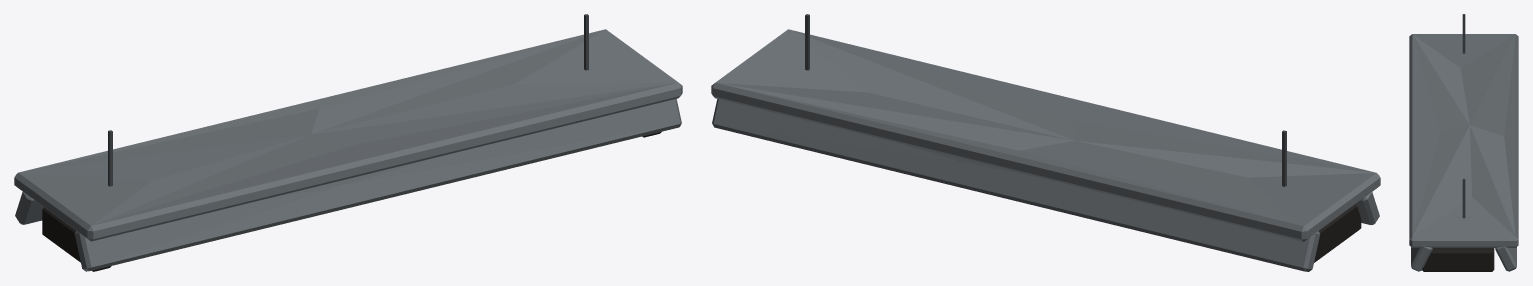
File: grow_lamp_lyuminestsentnaya_idle.glb
3 renders of one model, left to right at view 1: azimuth 30°, elevation 25°; view 2: azimuth 150°, elevation 25°; view 3: azimuth 270°, elevation 25°, orthographic. The views are drawn at different scales.
Visible parts, largest first — view 1: grow_lamp_lyuminestsentnaya_idle; view 2: grow_lamp_lyuminestsentnaya_idle; view 3: grow_lamp_lyuminestsentnaya_idle.
Boxes of the visible parts, x1=… form: grow_lamp_lyuminestsentnaya_idle: x1=14, y1=14, x2=682, y2=271; grow_lamp_lyuminestsentnaya_idle: x1=711, y1=14, x2=1380, y2=271; grow_lamp_lyuminestsentnaya_idle: x1=1409, y1=14, x2=1518, y2=271.
Size of the model in its own units: 0.8 by 0.14 by 0.18.
Materials: 2 (2 with a texture image).
